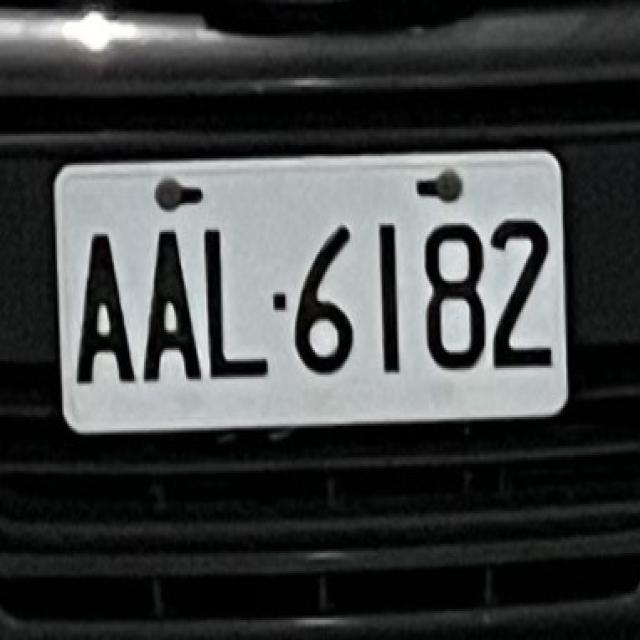license-plate: (41, 125, 576, 486)
